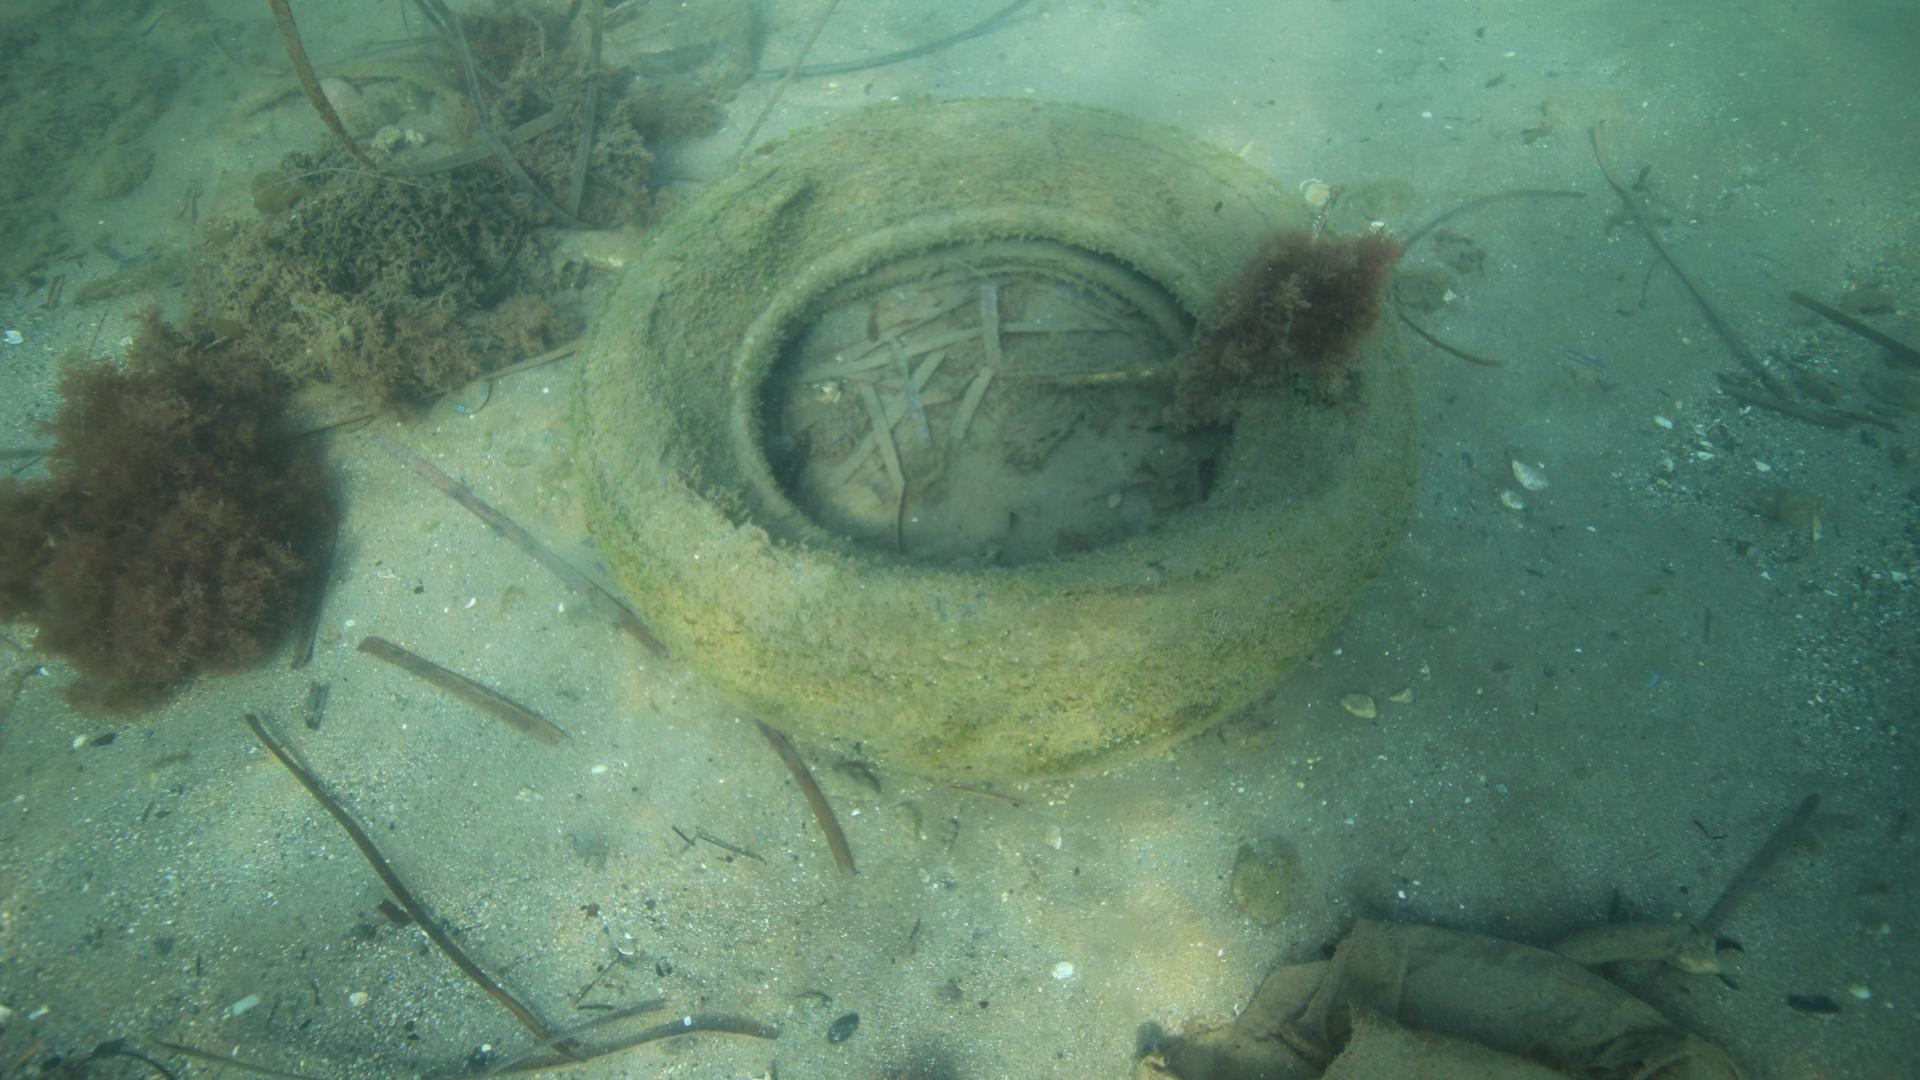tire: (572, 96, 1418, 778)
